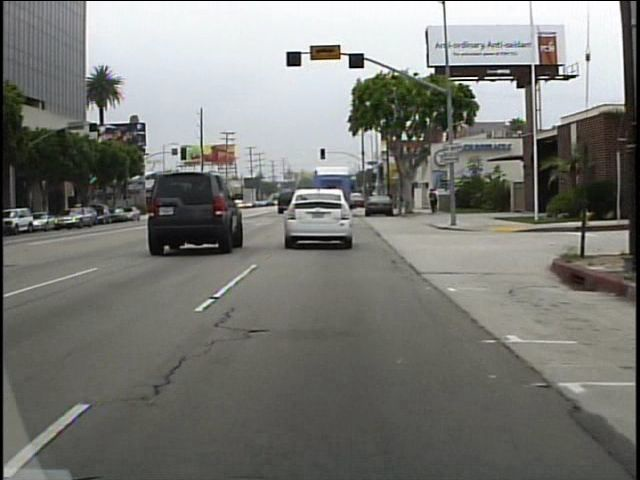person: (427, 187, 438, 217), (434, 187, 443, 213)
